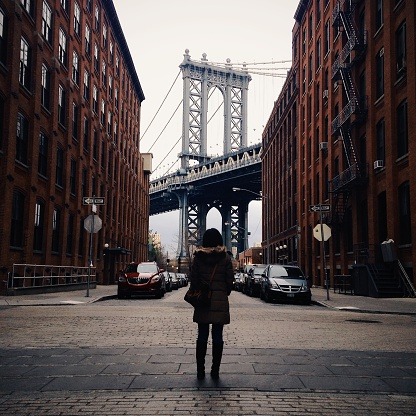em pe: (192, 219, 239, 388)
